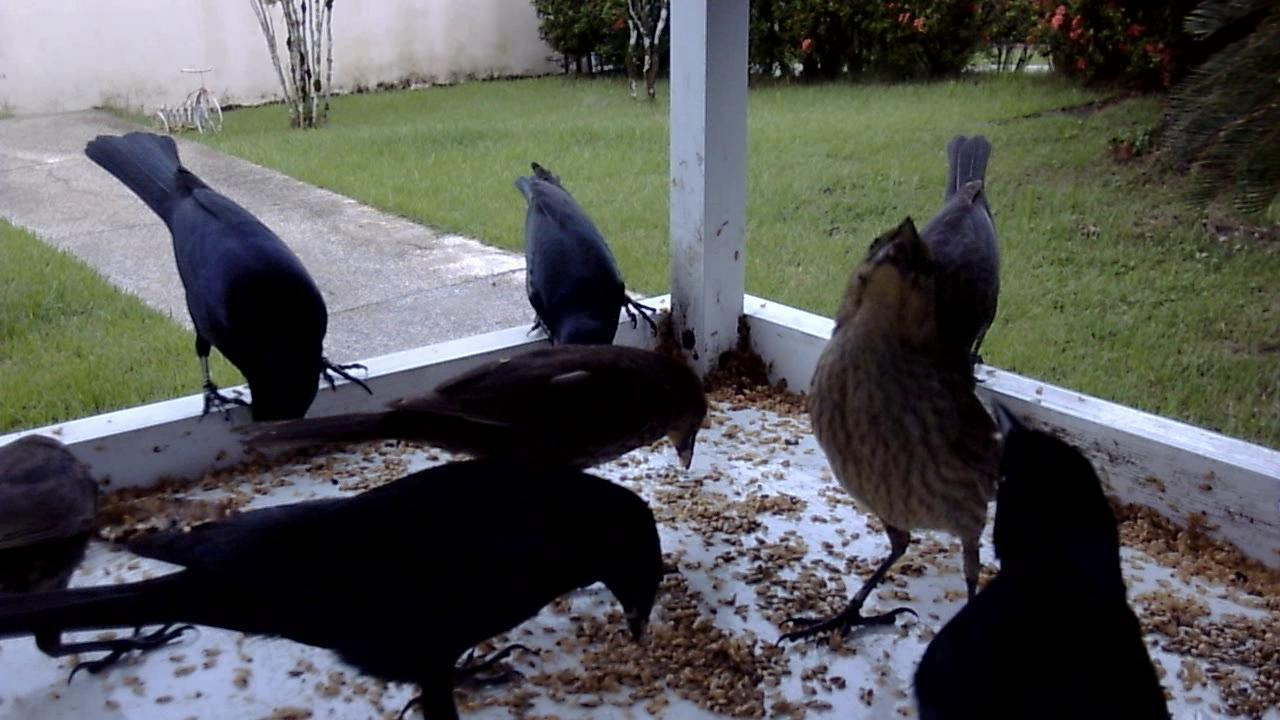chupim: (9, 409, 663, 720), (784, 207, 1011, 642), (75, 135, 386, 431), (219, 321, 723, 493), (903, 422, 1183, 720), (877, 132, 1020, 378), (507, 162, 669, 351), (1, 409, 131, 630)
